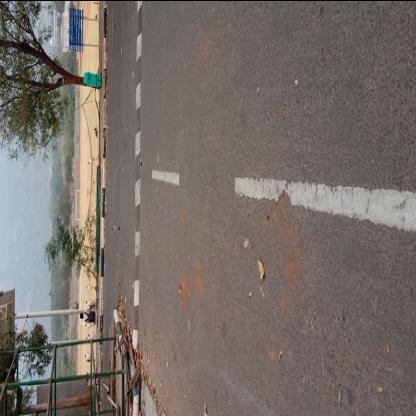speed-bumps: (130, 0, 146, 358)
